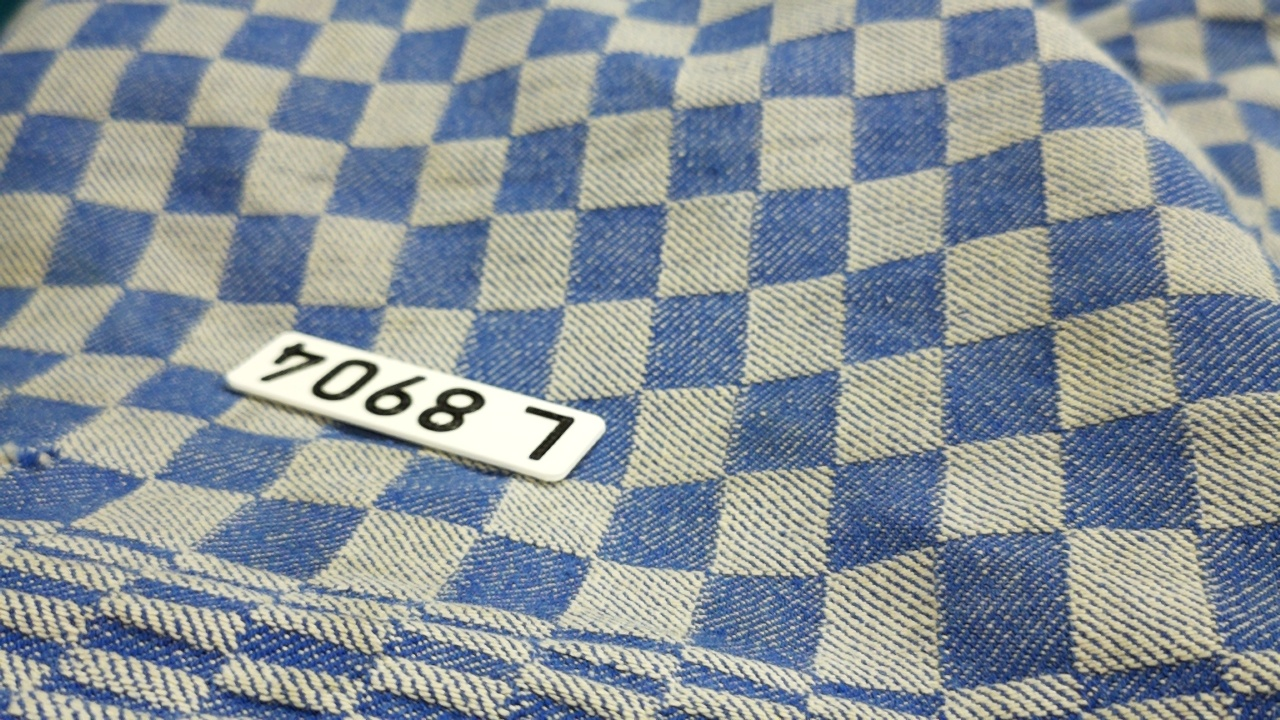license_plate: (220, 326, 610, 486), (416, 302, 420, 328)
